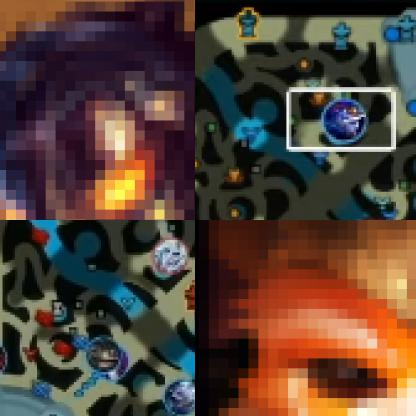Aurelion Sol: (320, 97, 369, 145)
Gnar: (195, 220, 415, 415)
Graves: (0, 342, 9, 377)
Jinx: (98, 348, 130, 380)
Tahm Kench: (87, 337, 121, 372)
Viego: (152, 236, 190, 274)
Viktor: (0, 0, 194, 219)
Volibear: (165, 379, 194, 415)
